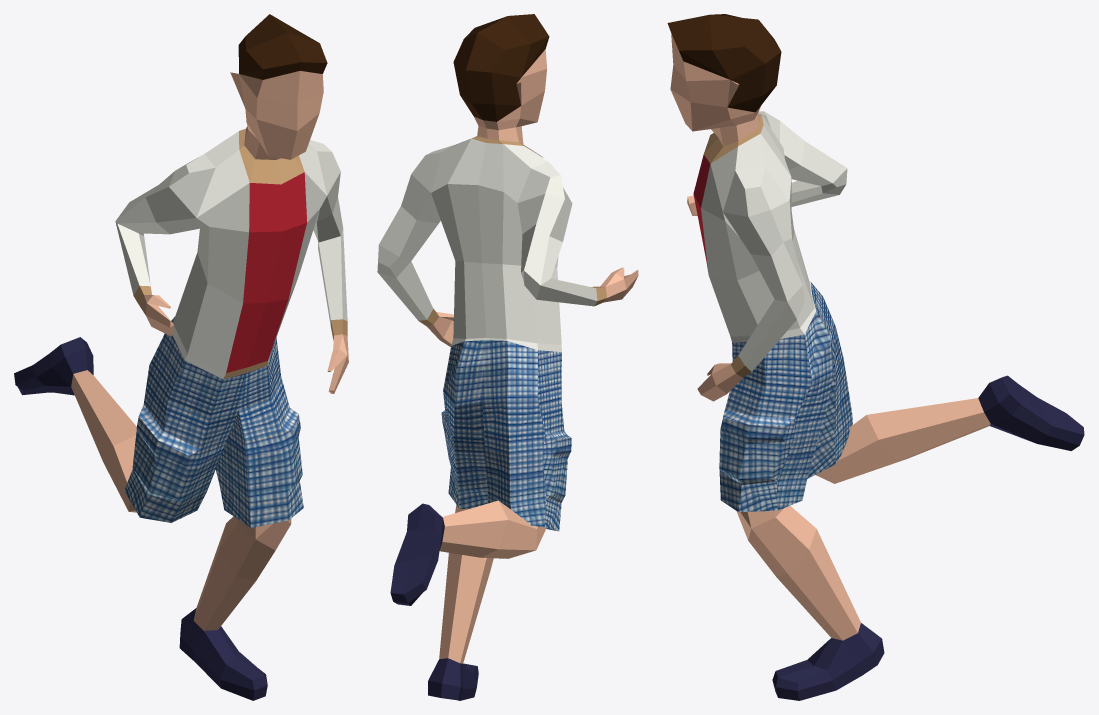
Rendered from SpringBoy.006.glb.
The picture shows the model from 3 angles, left to right: view 1: azimuth 30°, elevation 25°; view 2: azimuth 150°, elevation 25°; view 3: azimuth 270°, elevation 25°; orthographic projection. The views are drawn at different scales.
Visible parts, largest first — view 1: SpringBoy.006; view 2: SpringBoy.006; view 3: SpringBoy.006.
Boxes of the visible parts, x1,y1,x2,y2 form: SpringBoy.006: (14,14,348,700); SpringBoy.006: (377,14,638,700); SpringBoy.006: (667,14,1084,700).
Size of the model in its own units: 0.4218 by 1.21 by 0.6772.
1 material, 1 textured.
